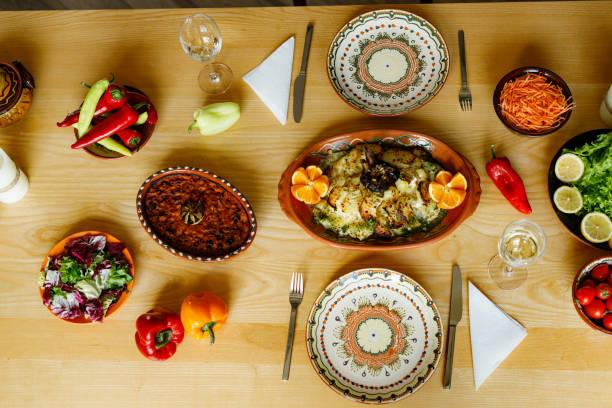Braised Crucian Carp: (275, 126, 481, 249), (138, 165, 256, 263), (41, 231, 136, 324), (549, 128, 612, 255)
